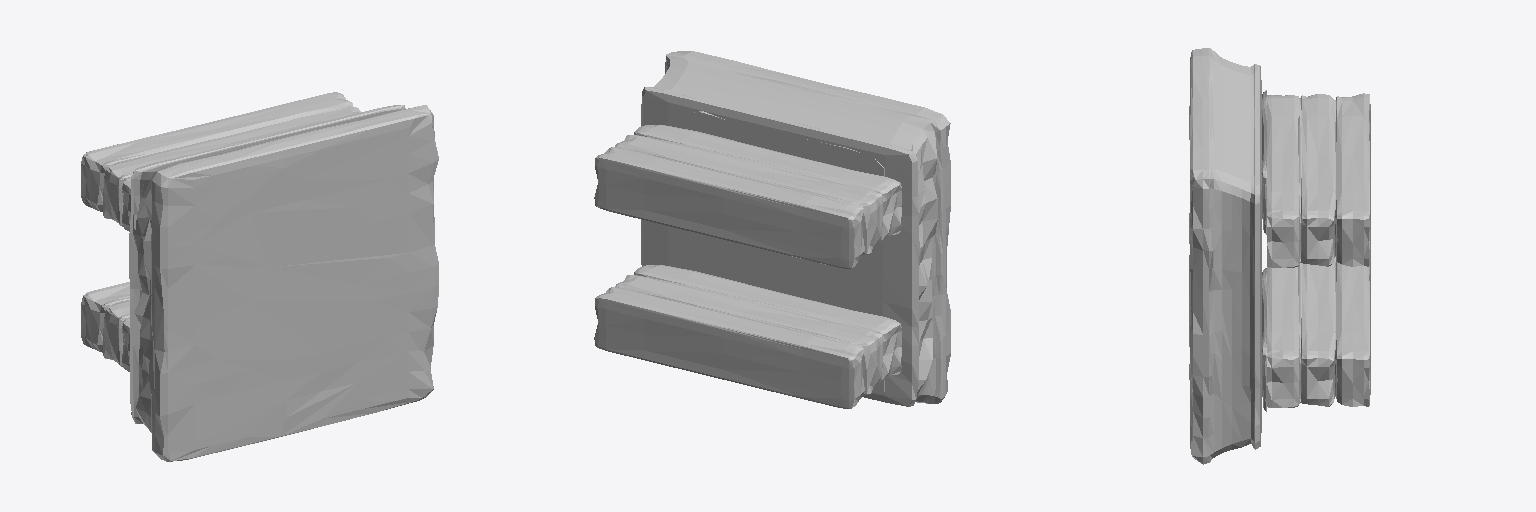
Rendered from tinker.obj.
3 renders of one model, left to right at view 1: azimuth 30°, elevation 25°; view 2: azimuth 150°, elevation 25°; view 3: azimuth 270°, elevation 25°, orthographic.
Visible parts, largest first — view 1: obj_0; view 2: obj_0; view 3: obj_0.
Boxes of the visible parts, <box> form: obj_0: <box>81,92,438,461</box>; obj_0: <box>594,51,950,408</box>; obj_0: <box>1189,48,1370,464</box>.
Size of the model in its own units: 25.12 by 24.62 by 14.